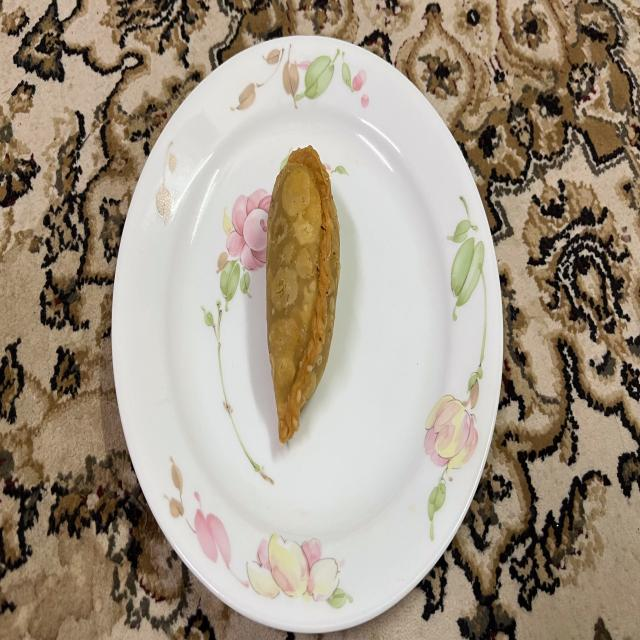karipap: (266, 147, 340, 444)
